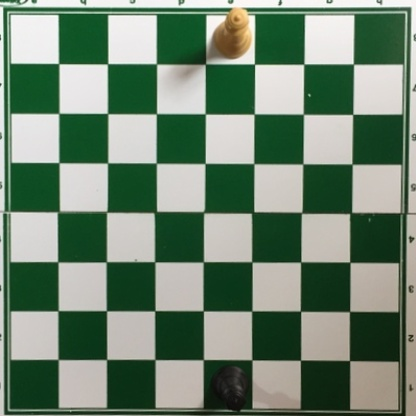black-queen: (210, 362, 249, 413)
white-queen: (211, 5, 252, 60)
